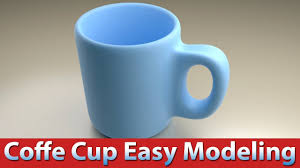cup: (62, 1, 245, 138)
